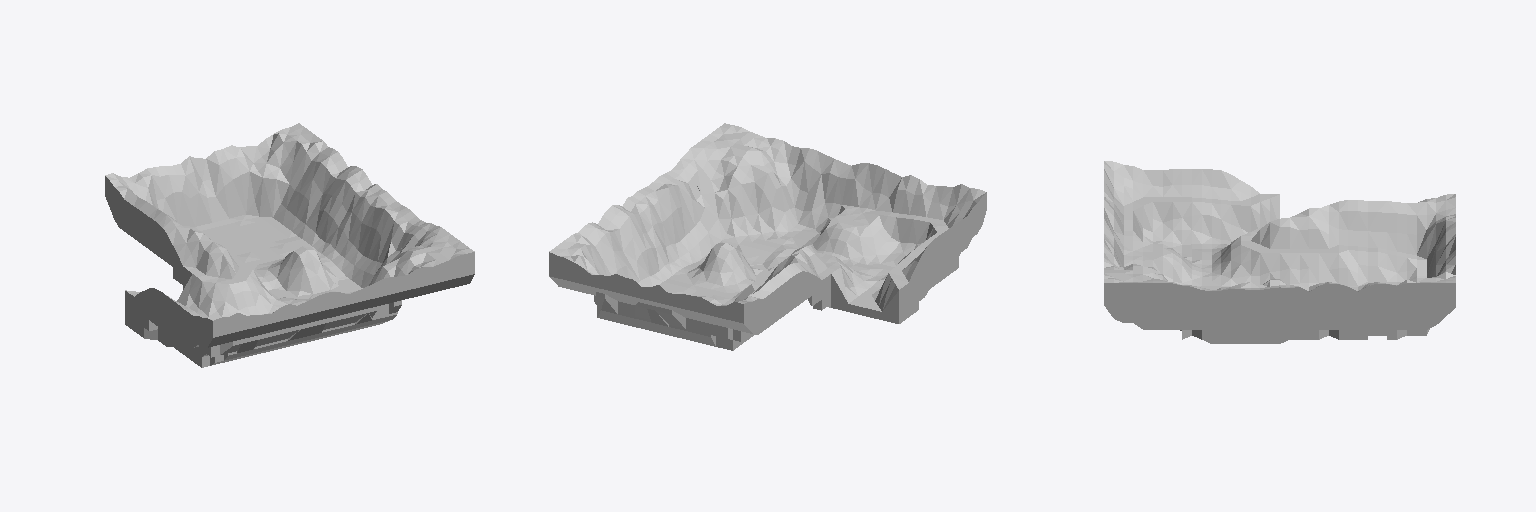
File: terrain_45x512_end.obj
3 views of the same model, side by side, from view 1: azimuth 30°, elevation 25°; view 2: azimuth 150°, elevation 25°; view 3: azimuth 270°, elevation 25° (orthographic).
Bounding box in the file's own units: 7936 × 2112 × 9216.